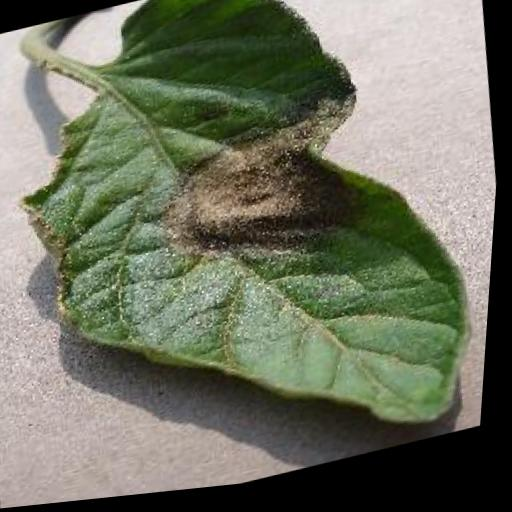Late Blight: (0, 0, 505, 511)
